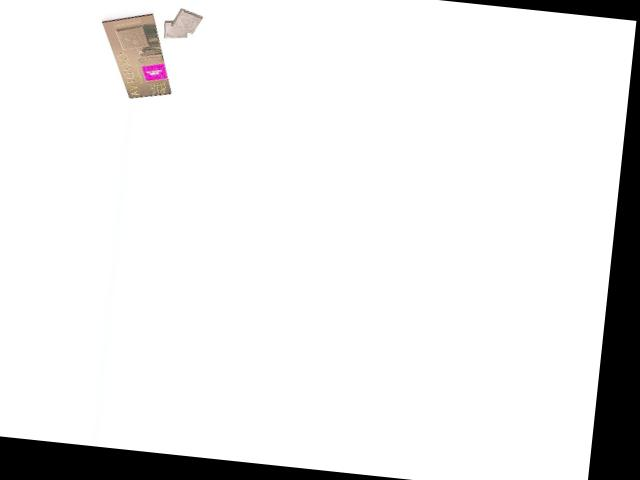chocolate: (93, 6, 181, 104)
